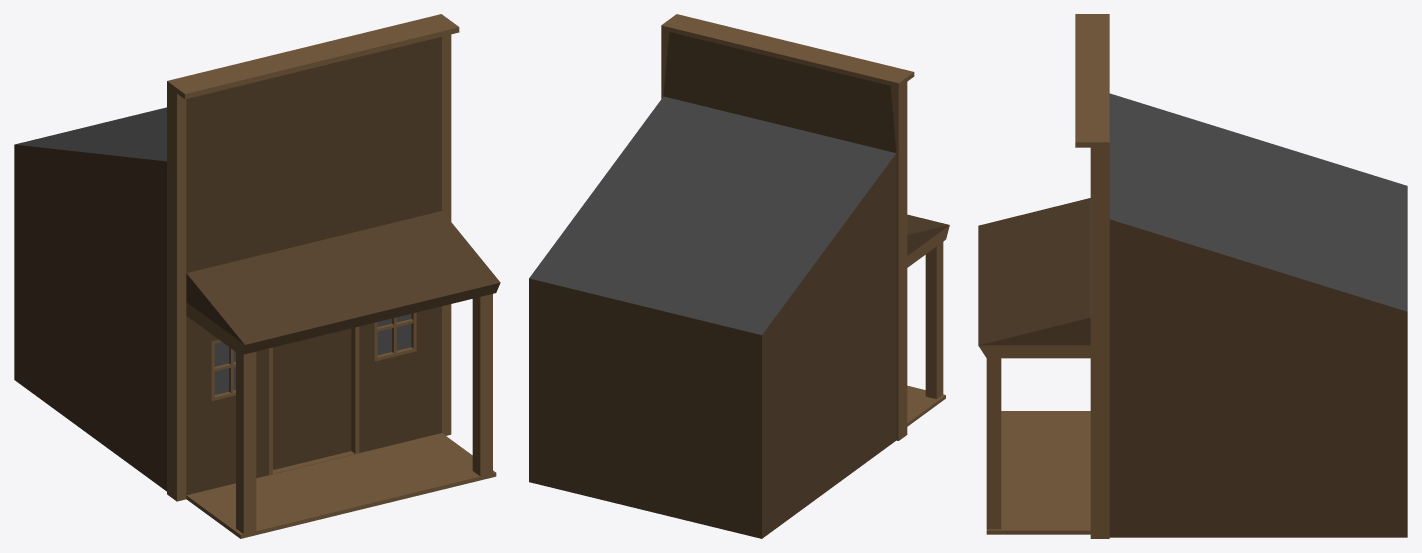
Rendered from mail_office.fbx.
3 views of the same model, side by side, from view 1: azimuth 30°, elevation 25°; view 2: azimuth 150°, elevation 25°; view 3: azimuth 270°, elevation 25° (orthographic). The views are drawn at different scales.
Visible parts, largest first — view 1: Cube; view 2: Cube; view 3: Cube.
Part boxes in pixels (bbox=[...]): Cube: bbox=[14, 14, 500, 538]; Cube: bbox=[529, 14, 949, 538]; Cube: bbox=[978, 14, 1407, 538].
Bounding box in the file's own units: 204 × 294 × 288.
